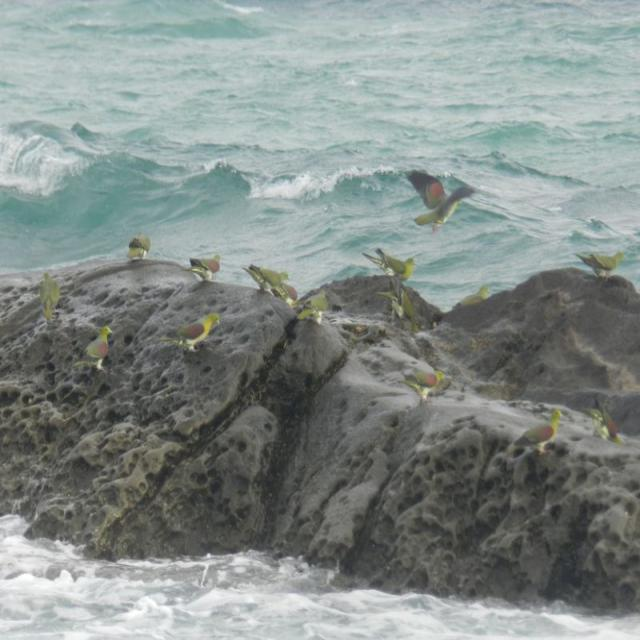bird: (404, 172, 474, 233), (511, 407, 561, 459), (359, 242, 415, 284), (245, 258, 295, 298), (575, 248, 628, 280), (585, 407, 624, 450), (81, 324, 116, 370), (165, 316, 218, 346), (404, 366, 448, 402), (378, 291, 418, 330), (37, 270, 62, 326), (188, 250, 225, 286), (298, 287, 332, 322), (450, 288, 488, 314), (126, 229, 151, 263)
